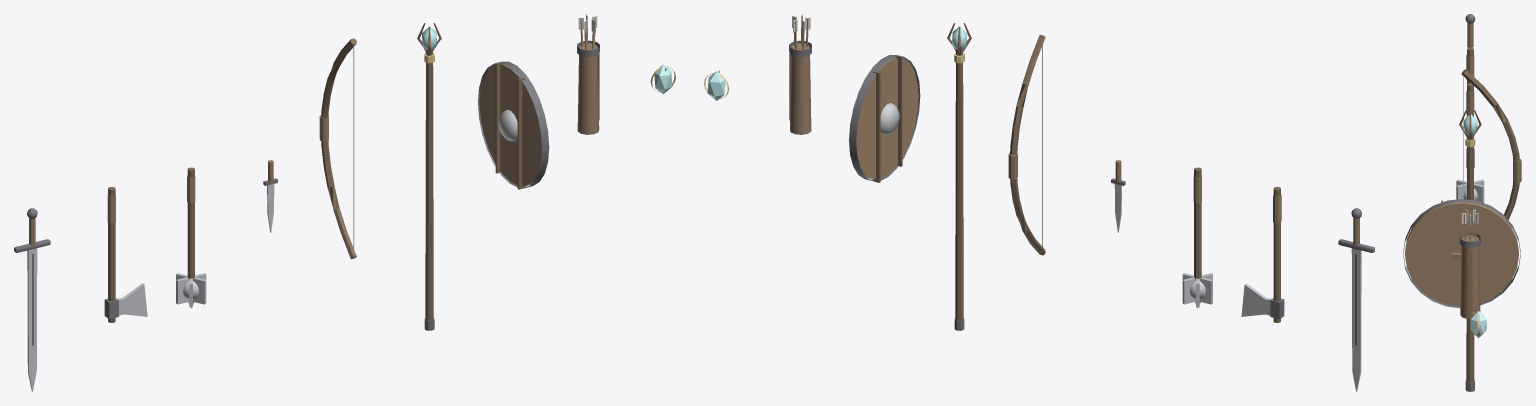
The model's file is weapons.glb.
3 views of the same model, side by side, from view 1: azimuth 30°, elevation 25°; view 2: azimuth 150°, elevation 25°; view 3: azimuth 270°, elevation 25° (orthographic). The views are drawn at different scales.
Parts seen in each view (by area): view 1: w_shield, w_staff, w_quiver, w_bow, w_axe, w_sword, w_mace; view 2: w_shield, w_staff, w_quiver, w_bow, w_axe, w_sword, w_mace; view 3: w_shield, w_quiver, w_staff, w_bow, w_mace, w_focus, w_axe, w_sword.
Boxes of the visible parts, bbox=[...] form: w_shield: bbox=[478, 61, 549, 189]; w_staff: bbox=[417, 23, 441, 330]; w_quiver: bbox=[577, 14, 599, 134]; w_bow: bbox=[319, 38, 356, 259]; w_axe: bbox=[104, 187, 147, 322]; w_sword: bbox=[14, 208, 50, 391]; w_mace: bbox=[176, 167, 206, 308]; w_shield: bbox=[849, 55, 920, 182]; w_staff: bbox=[947, 23, 971, 330]; w_quiver: bbox=[789, 14, 811, 134]; w_bow: bbox=[1008, 34, 1045, 255]; w_axe: bbox=[1241, 187, 1284, 322]; w_sword: bbox=[1338, 208, 1374, 391]; w_mace: bbox=[1182, 167, 1212, 308]; w_shield: bbox=[1403, 199, 1520, 308]; w_quiver: bbox=[1459, 209, 1480, 318]; w_staff: bbox=[1459, 110, 1481, 391]; w_bow: bbox=[1461, 69, 1521, 219]; w_mace: bbox=[1456, 83, 1484, 202]; w_focus: bbox=[1470, 311, 1486, 337]; w_axe: bbox=[1466, 47, 1474, 168]; w_sword: bbox=[1465, 14, 1475, 47].
Bounding box in the file's own units: 4.18 × 1.87 × 0.706.
